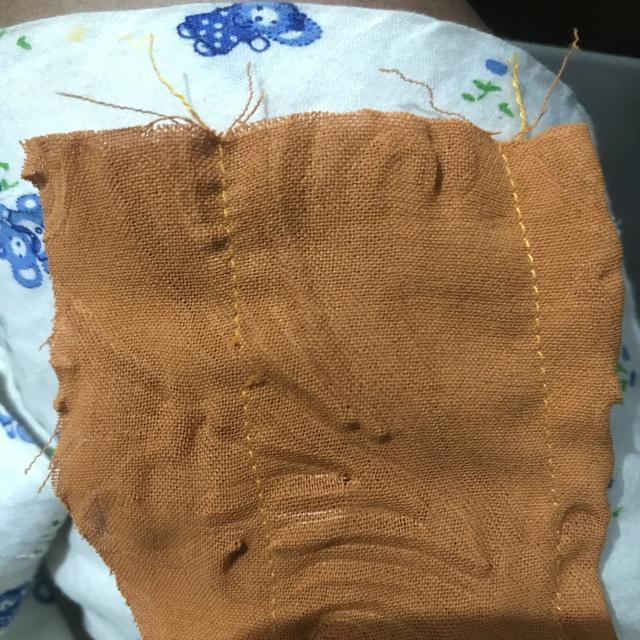broken: (204, 313, 276, 409)
good: (513, 258, 556, 385)
